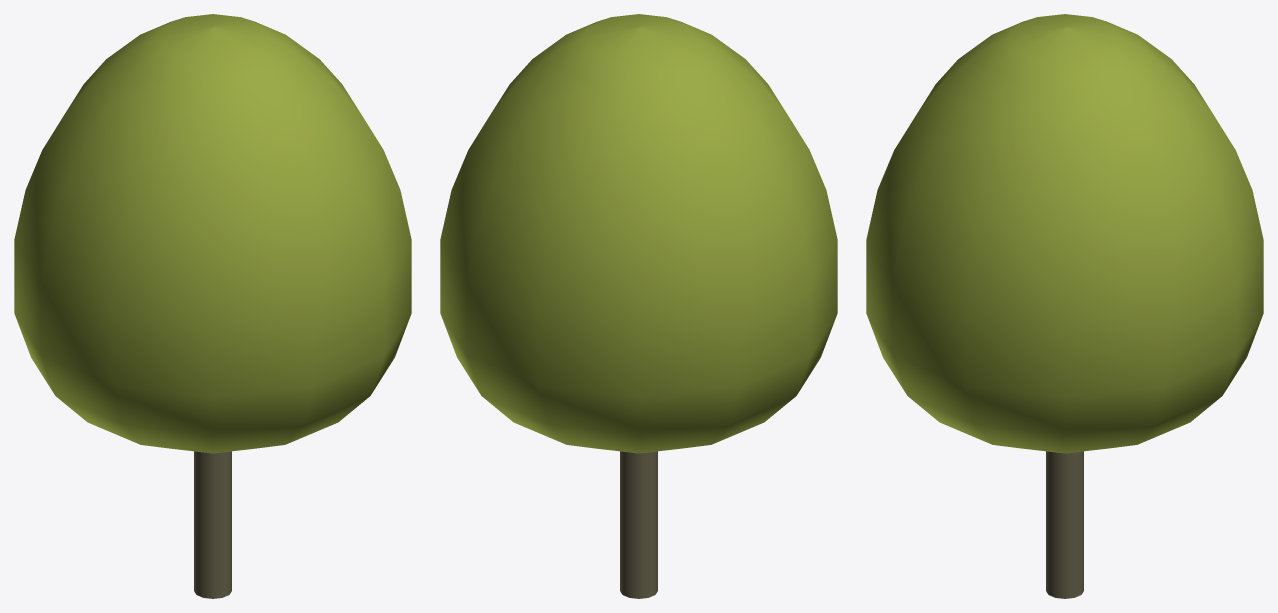
Rendered from Flowering_Dogwood_Analytical_0.obj.
3 views of the same model, side by side, from view 1: azimuth 30°, elevation 25°; view 2: azimuth 150°, elevation 25°; view 3: azimuth 270°, elevation 25° (orthographic).
Visible parts, largest first — view 1: AnalyticalCrown, AnalyticalTrunk; view 2: AnalyticalCrown, AnalyticalTrunk; view 3: AnalyticalCrown, AnalyticalTrunk.
Boxes of the visible parts, x1,y1,x2,y2 form: AnalyticalCrown: (14,14,411,453); AnalyticalTrunk: (194,451,231,598); AnalyticalCrown: (440,14,837,453); AnalyticalTrunk: (620,451,657,598); AnalyticalCrown: (866,14,1263,453); AnalyticalTrunk: (1046,451,1083,598).
Size of the model in its own units: 4.8 by 7.5 by 4.8.
